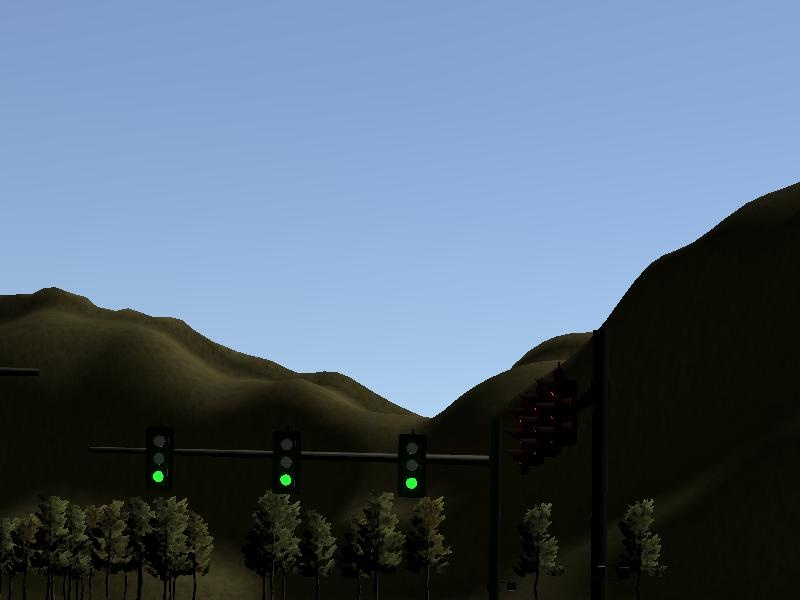green: (270, 429, 302, 495), (397, 434, 426, 500), (146, 425, 174, 490)
